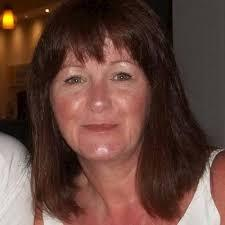normalEye: (55, 59, 138, 93)
normalMouth: (72, 116, 126, 136)
